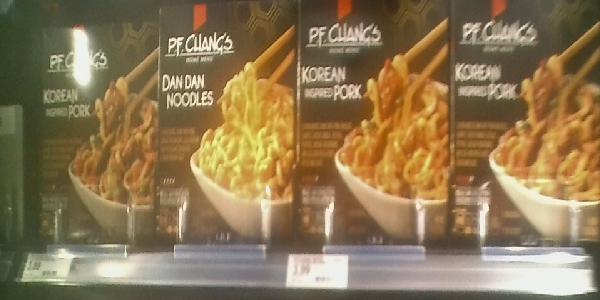pizza1: (298, 1, 451, 250), (453, 1, 600, 245), (158, 1, 296, 247), (33, 15, 157, 237)
